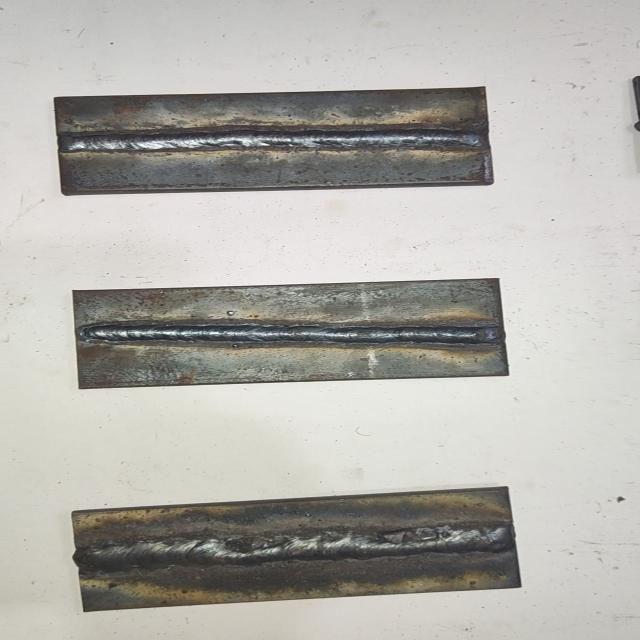Defect: (212, 526, 307, 558), (369, 522, 484, 546)
Welding Line: (80, 523, 518, 571), (66, 128, 487, 154), (82, 322, 502, 346)
Workpiece: (65, 481, 528, 617), (51, 82, 506, 202), (68, 273, 514, 395)
